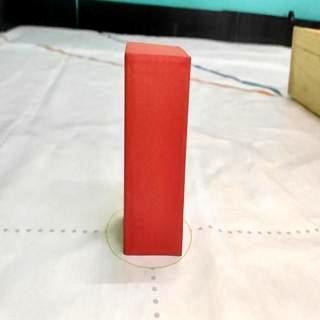redbox: (122, 41, 191, 258)
